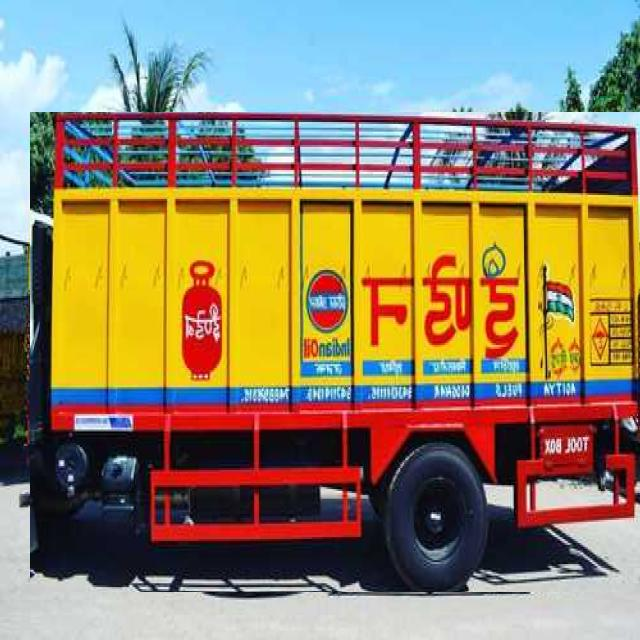truck: (30, 112, 640, 592)
